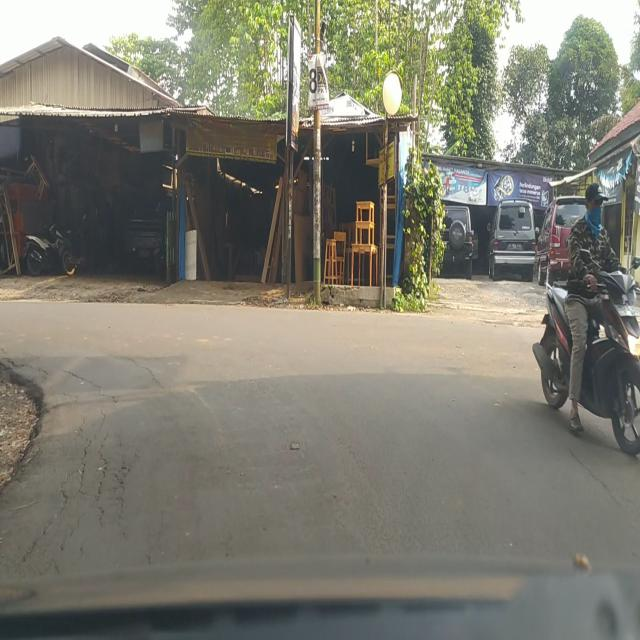Drain Hole: (26, 417, 132, 557)
